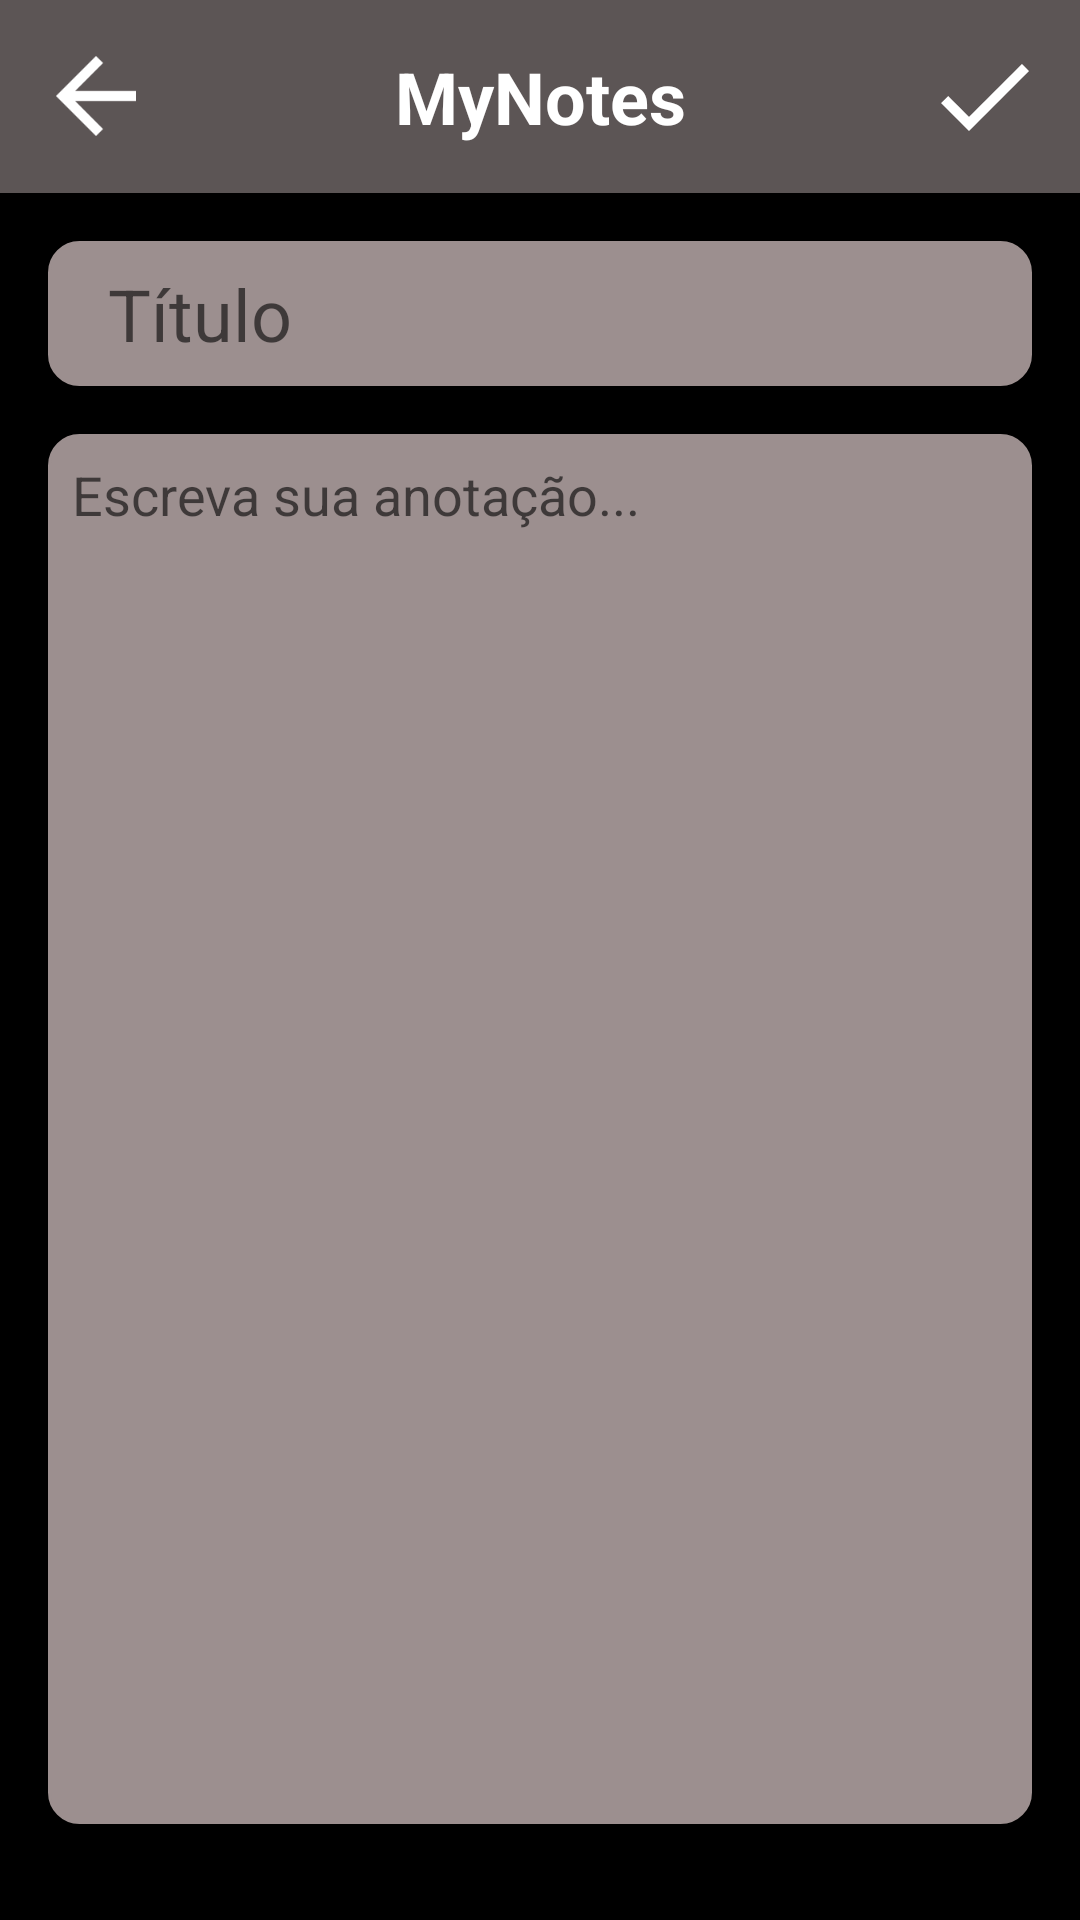

Icons on this 1080px x 1920px Android screen, each with its box as bbox=(x1, y1, x2, y2):
check: bbox=(941, 64, 1029, 131)
